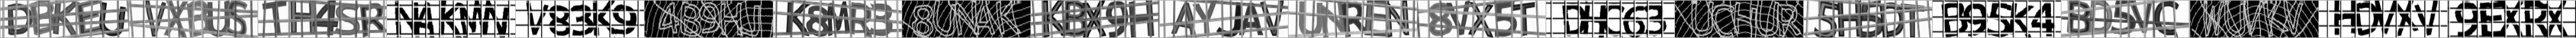3: (570, 5, 595, 35), (1644, 5, 1667, 36), (872, 3, 892, 36)
4: (2032, 2, 2055, 38), (315, 0, 337, 38), (657, 3, 680, 35)
5: (1814, 0, 1838, 38), (1988, 2, 2011, 38), (1861, 0, 1883, 38), (1495, 2, 1516, 38), (2114, 0, 2136, 33)
6: (1625, 7, 1644, 38)
8: (549, 5, 572, 36), (1428, 3, 1449, 36), (808, 5, 830, 36), (912, 5, 933, 35)
9: (1106, 0, 1129, 38), (2454, 3, 2479, 38), (1965, 3, 1988, 38), (613, 3, 637, 35), (700, 2, 720, 36)
a: (1171, 0, 1196, 38), (1244, 3, 1263, 38), (976, 2, 994, 33), (419, 2, 434, 38)
b: (30, 0, 54, 38), (1942, 2, 1966, 38), (2067, 0, 2091, 33), (187, 0, 209, 38), (680, 2, 701, 38), (1065, 0, 1086, 36)
c: (2154, 0, 2178, 35), (1713, 5, 1735, 38), (1607, 5, 1623, 38)
d: (1879, 3, 1906, 38), (7, 2, 31, 38), (2091, 0, 2113, 33), (2357, 2, 2377, 36), (1561, 5, 1584, 33)
e: (77, 2, 100, 38), (2481, 3, 2504, 38), (1367, 0, 1385, 38)
h: (1129, 0, 1155, 38), (291, 0, 315, 38), (1837, 0, 1861, 38), (2333, 0, 2356, 36), (720, 3, 744, 36), (1735, 2, 1756, 38), (1584, 3, 1605, 38)
j: (1217, 3, 1242, 38), (743, 5, 761, 38)
k: (54, 0, 77, 38), (996, 0, 1020, 35), (1042, 0, 1065, 36), (2262, 2, 2287, 35), (440, 2, 462, 38), (787, 2, 807, 38), (593, 2, 613, 36), (2011, 2, 2029, 38)
m: (460, 0, 483, 38), (826, 2, 849, 35)
n: (483, 0, 509, 38), (394, 0, 419, 38), (954, 2, 979, 38), (1322, 2, 1345, 38), (1387, 0, 1408, 38)
r: (360, 0, 386, 38), (1342, 0, 1365, 38), (849, 2, 872, 38), (2525, 0, 2546, 38), (1779, 3, 1802, 38)
s: (337, 0, 360, 38), (230, 0, 246, 38)
t: (263, 0, 286, 38), (1904, 3, 1925, 38), (1516, 2, 1534, 36)
u: (1298, 0, 1322, 38), (102, 0, 125, 38), (1756, 0, 1779, 38), (933, 0, 956, 36), (1692, 2, 1715, 36), (209, 0, 228, 38), (2224, 5, 2246, 36)
v: (145, 0, 166, 38), (526, 0, 547, 38), (1262, 2, 1283, 38), (2417, 0, 2438, 35), (1449, 2, 1469, 36), (2376, 0, 2395, 33), (2134, 0, 2152, 33), (2284, 0, 2302, 33), (2244, 2, 2262, 33)
w: (2203, 5, 2221, 35)
x: (1470, 2, 1492, 38), (2548, 2, 2569, 38), (168, 0, 187, 38), (1086, 0, 1106, 38), (2395, 0, 2415, 36), (2505, 2, 2522, 38)
y: (1196, 2, 1217, 36)
